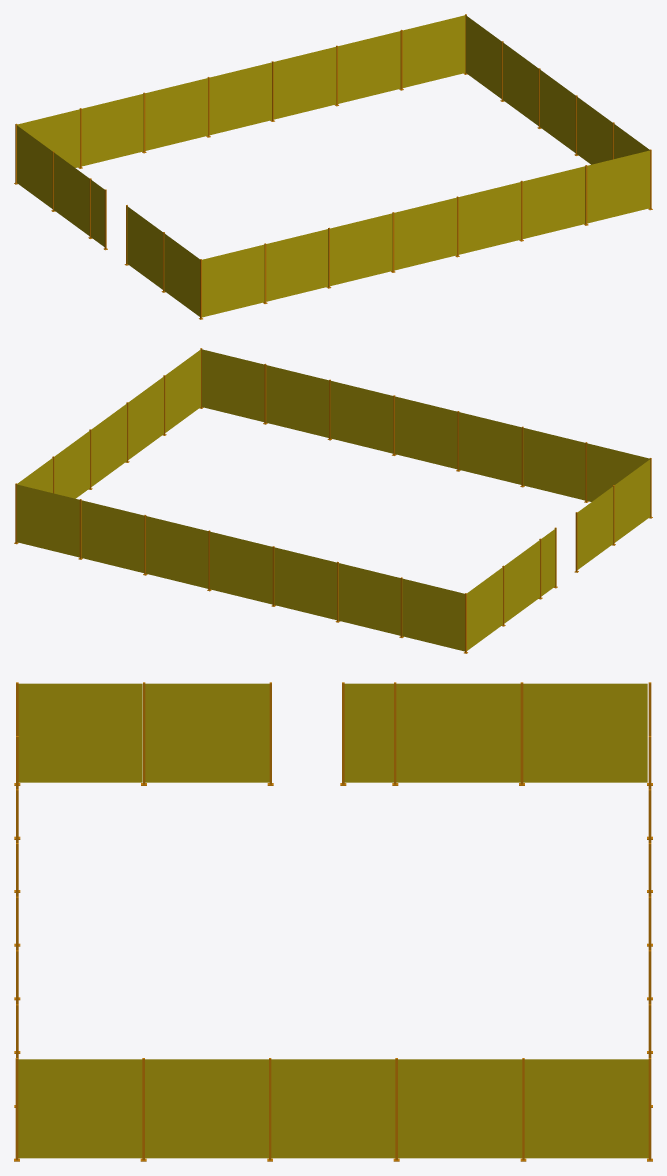
The model's file is Safety_Wall.fbx.
The picture shows the model from 3 angles, top to bottom: view 1: azimuth 30°, elevation 25°; view 2: azimuth 150°, elevation 25°; view 3: azimuth 270°, elevation 25°; orthographic projection. The views are drawn at different scales.
Parts seen in each view (by area): view 1: GitterRear_5, GitterRear, GitterRear_6, GitterRear_4, GitterRear_13, GitterRear_2, GitterRear_10, GitterRear_8, GitterRear_7, GitterRear_11, GitterRear_9, GitterFront_13 (+34 smaller); view 2: GitterRear_1, GitterRear_8, GitterRear_9, GitterRear_5, GitterRear_6, GitterRear_10, GitterRear_4, GitterRear_12, GitterRear_2, GitterRear_3, GitterRear, GitterRear_11 (+33 smaller); view 3: GitterRear_16, GitterRear_21, GitterRear_14, GitterRear_18, GitterRear_23, GitterRear_19, GitterRear_20, GitterRear_22, GitterRear_17, GitterFront_22, GitterFront_16, GitterFront_23 (+8 smaller).
Boxes of the visible parts, x1,y1,x2,y2 form: GitterRear_5: [394, 197, 456, 270]; GitterRear: [402, 15, 464, 87]; GitterRear_6: [81, 93, 143, 166]; GitterRear_4: [209, 62, 271, 134]; GitterRear_13: [202, 244, 264, 317]; GitterRear_2: [338, 31, 400, 103]; GitterRear_10: [145, 78, 207, 150]; GitterRear_8: [273, 47, 335, 119]; GitterRear_7: [266, 229, 328, 301]; GitterRear_11: [330, 213, 392, 286]; GitterRear_9: [458, 182, 520, 253]; GitterFront_13: [202, 245, 264, 317]; GitterRear_1: [202, 349, 264, 421]; GitterRear_8: [146, 516, 208, 588]; GitterRear_9: [331, 381, 393, 453]; GitterRear_5: [395, 396, 457, 469]; GitterRear_6: [338, 563, 400, 635]; GitterRear_10: [274, 547, 336, 619]; GitterRear_4: [210, 531, 272, 604]; GitterRear_12: [402, 579, 464, 651]; GitterRear_2: [82, 500, 144, 572]; GitterRear_3: [266, 365, 328, 437]; GitterRear: [17, 484, 79, 557]; GitterRear_11: [459, 412, 513, 481]; GitterRear_16: [145, 683, 269, 782]; GitterRear_21: [524, 1059, 648, 1158]; GitterRear_14: [396, 683, 520, 782]; GitterRear_18: [271, 1059, 395, 1158]; GitterRear_23: [18, 1059, 141, 1158]; GitterRear_19: [145, 1059, 268, 1158]; GitterRear_20: [523, 683, 646, 782]; GitterRear_22: [18, 683, 141, 782]; GitterRear_17: [398, 1059, 521, 1158]; GitterFront_22: [18, 683, 142, 782]; GitterFront_16: [145, 683, 269, 782]; GitterFront_23: [18, 1059, 142, 1158].
Size of the model in its own units: 1803 by 227 by 1287.
